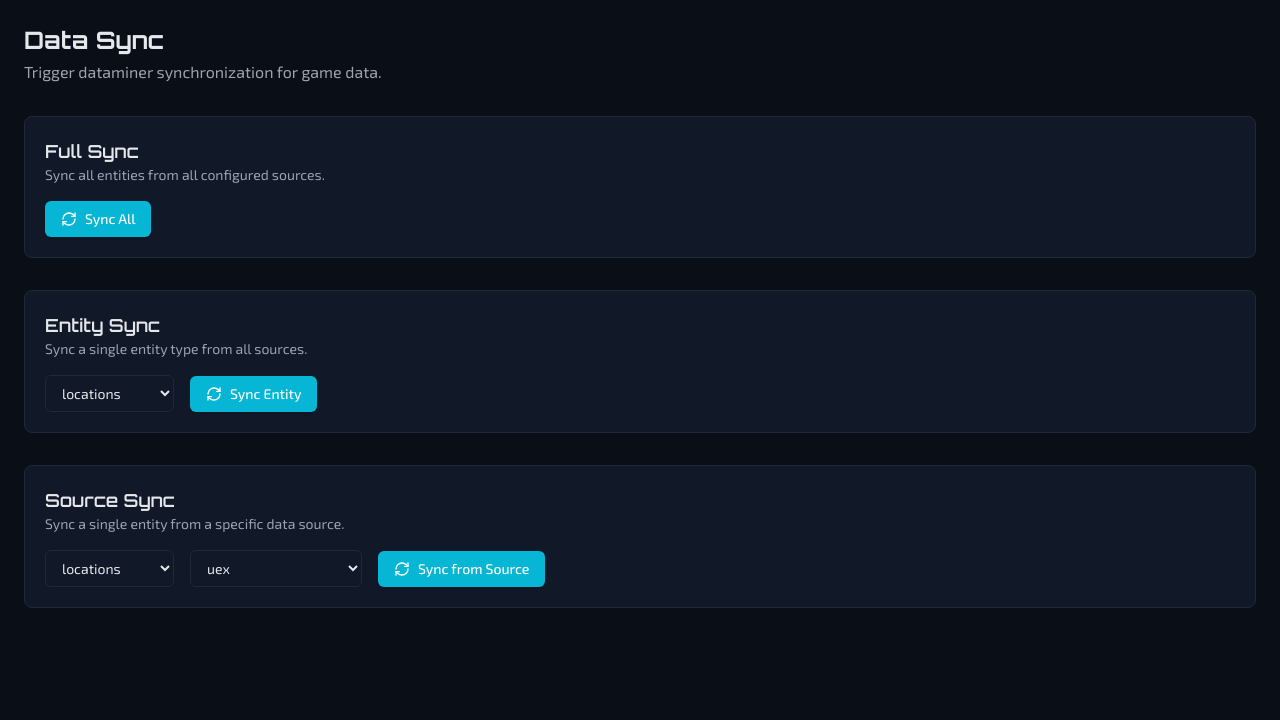
SyncPage › full sync button is disabled while loading
Click the button "Sync All" at (98, 219), box [45,201,152,237]
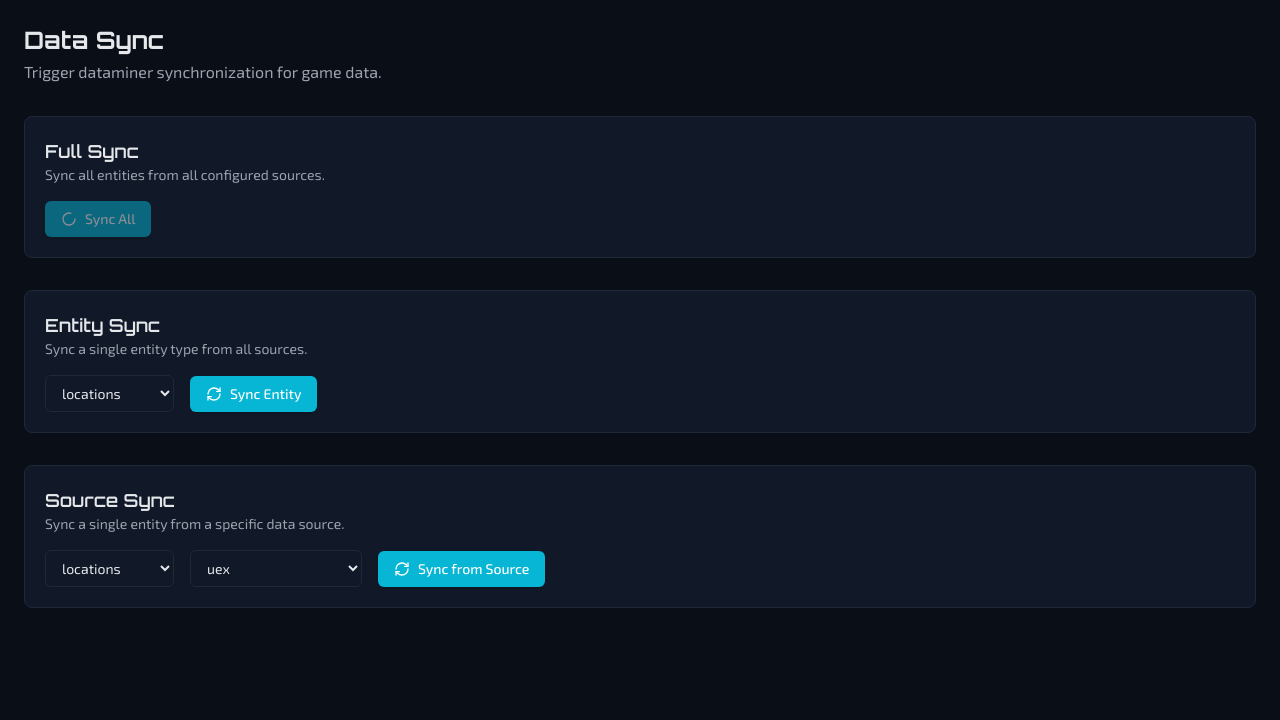
Now the button "Sync All" is disabled, box [45,201,152,237]
